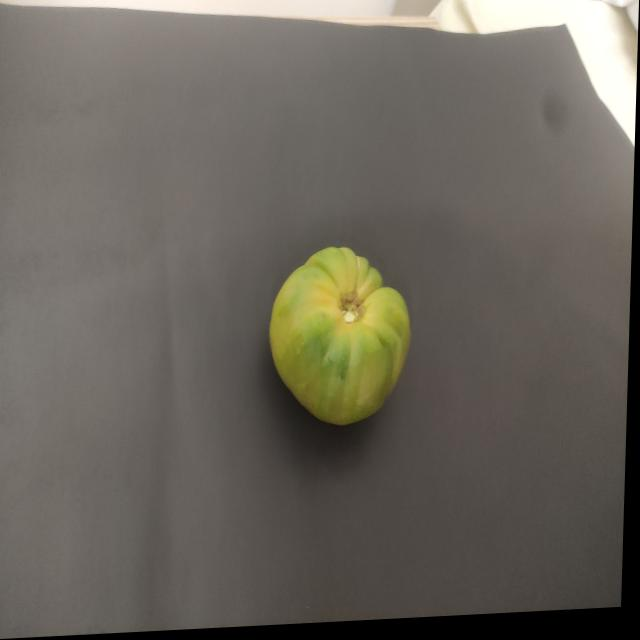yesil: (258, 231, 425, 442)
